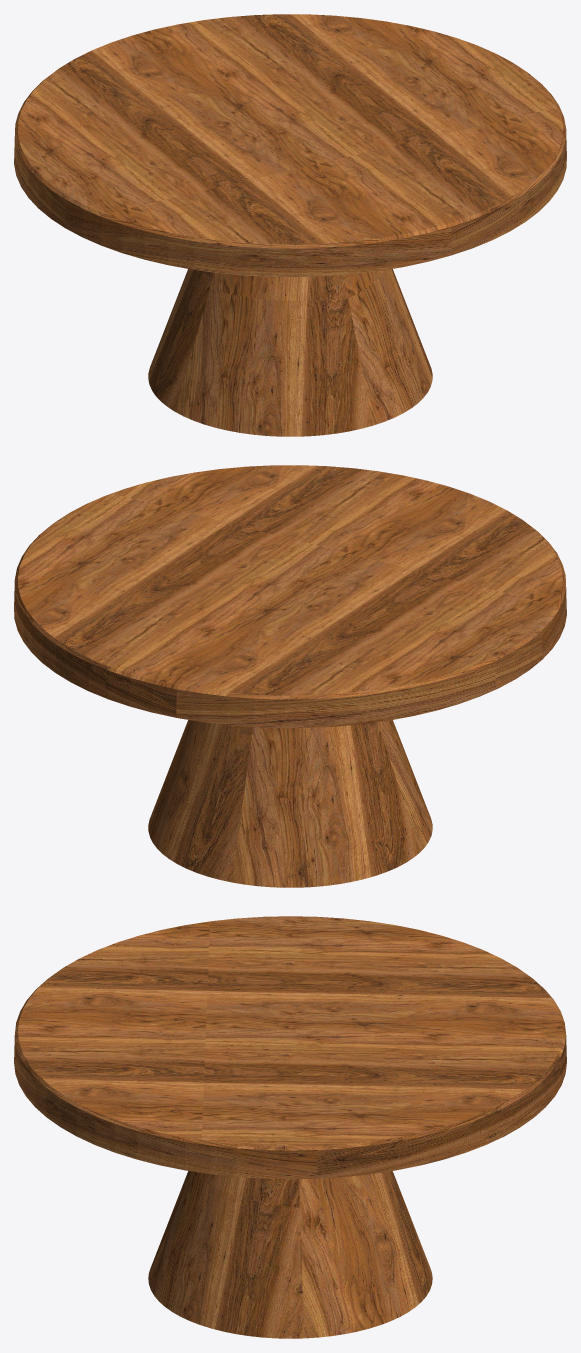
File: 木圆桌.glb
3 views of the same model, one above another, from view 1: azimuth 30°, elevation 25°; view 2: azimuth 150°, elevation 25°; view 3: azimuth 270°, elevation 25° (orthographic).
Parts seen in each view (by area): view 1: 柱体.005; view 2: 柱体.005; view 3: 柱体.005.
Part boxes in pixels (bbox=[...]): 柱体.005: bbox=[14, 14, 566, 436]; 柱体.005: bbox=[14, 465, 566, 887]; 柱体.005: bbox=[14, 916, 566, 1338].
Size of the model in its own units: 18.31 by 9.03 by 18.31.
1 material, 1 textured.
